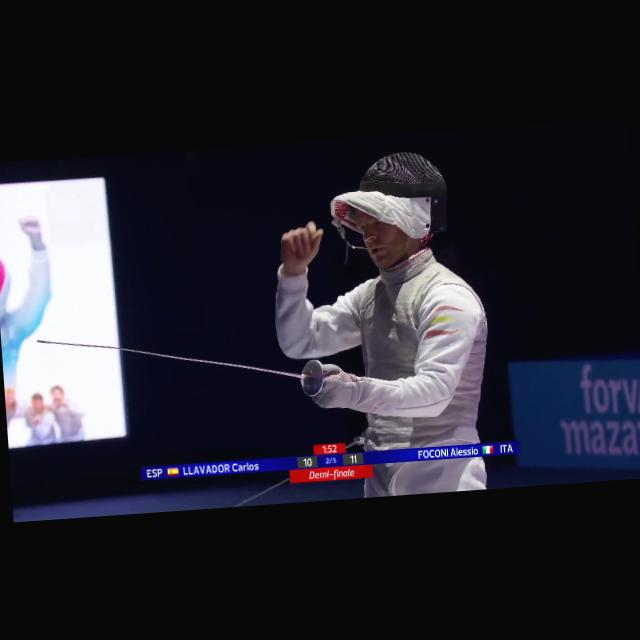blade: (32, 307, 339, 438)
